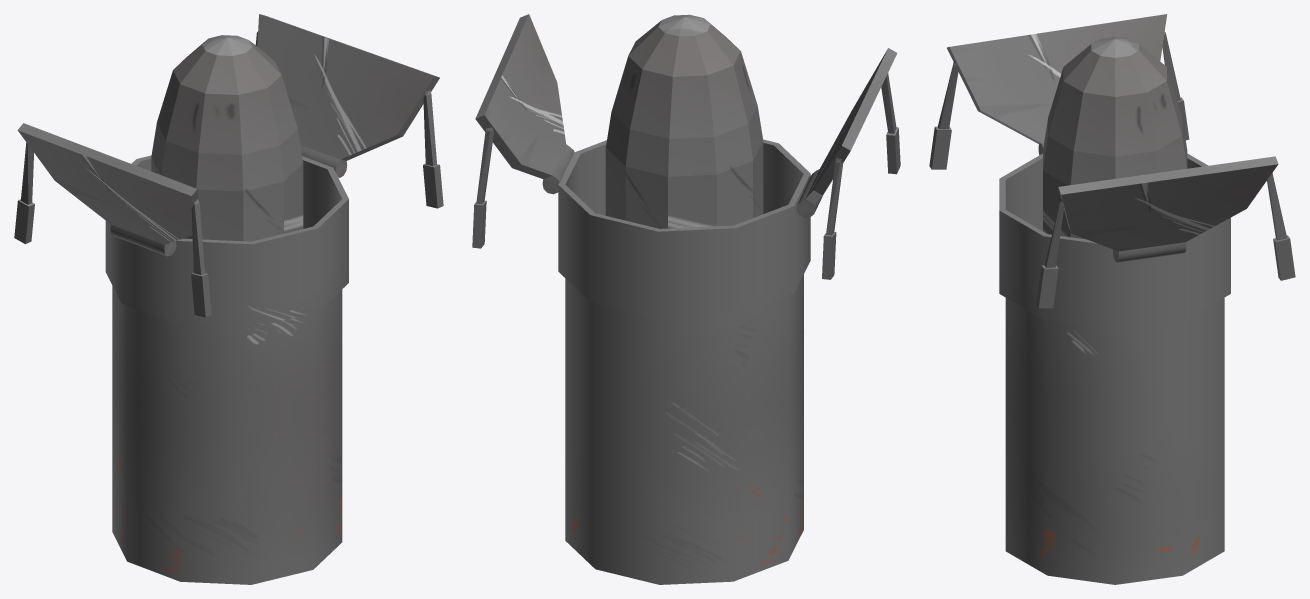
The model's file is silowithmissilebasictextures.FBX.
3 renders of one model, left to right at view 1: azimuth 30°, elevation 25°; view 2: azimuth 150°, elevation 25°; view 3: azimuth 270°, elevation 25°, orthographic. The views are drawn at different scales.
Visible parts, largest first — view 1: Cylinder001; view 2: Cylinder001; view 3: Cylinder001.
Part boxes in pixels (x1=…): Cylinder001: x1=14, y1=14, x2=443, y2=584; Cylinder001: x1=472, y1=14, x2=900, y2=584; Cylinder001: x1=929, y1=14, x2=1295, y2=584.
Size of the model in its own units: 97.44 by 125 by 83.76.
